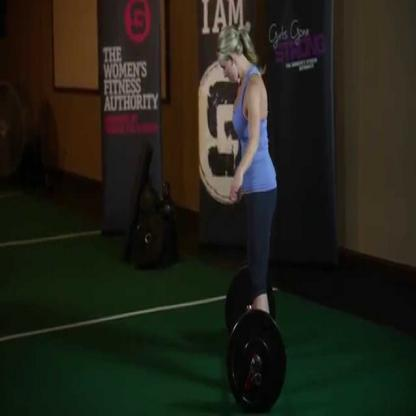barbell: (220, 265, 290, 416)
